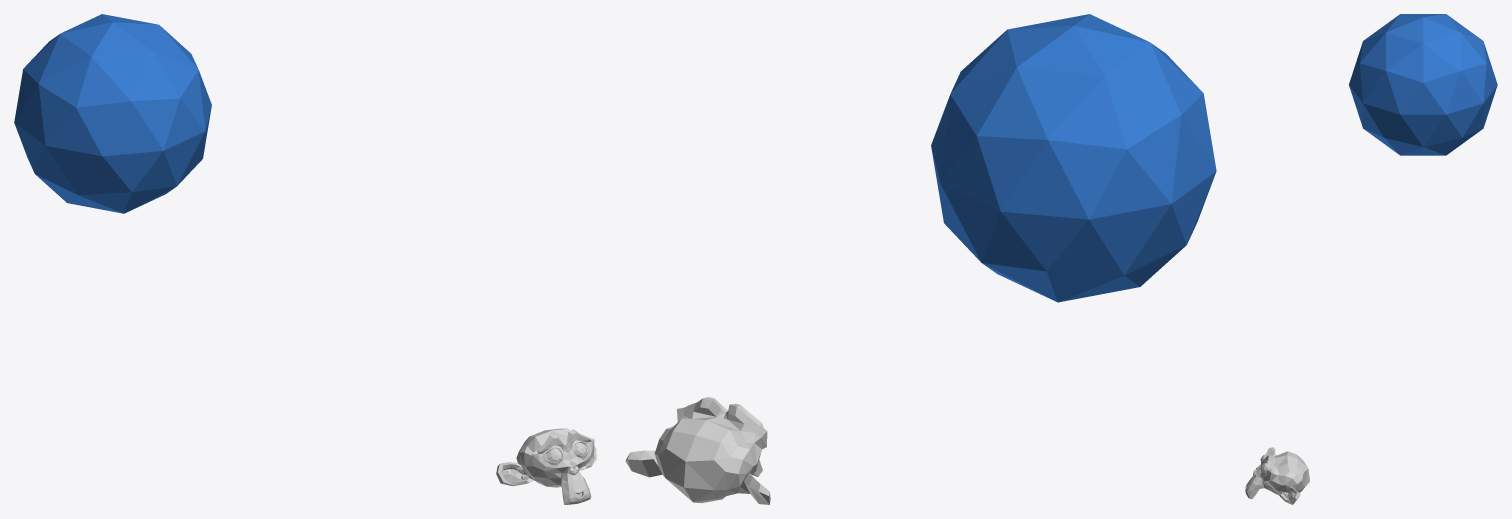
The picture shows the model from 3 angles, left to right: view 1: azimuth 30°, elevation 25°; view 2: azimuth 150°, elevation 25°; view 3: azimuth 270°, elevation 25°; orthographic projection. The views are drawn at different scales.
Visible parts, largest first — view 1: Icosphere, Suzanne; view 2: Icosphere, Suzanne; view 3: Icosphere, Suzanne.
Part boxes in pixels (x1,y1,x2,y2): Icosphere: (14,14,211,213); Suzanne: (496,428,596,504); Icosphere: (931,14,1216,302); Suzanne: (625,397,770,504); Icosphere: (1349,14,1497,155); Suzanne: (1245,447,1309,504).
Bounding box in the file's own units: 5.48 × 3.39 × 5.24.
